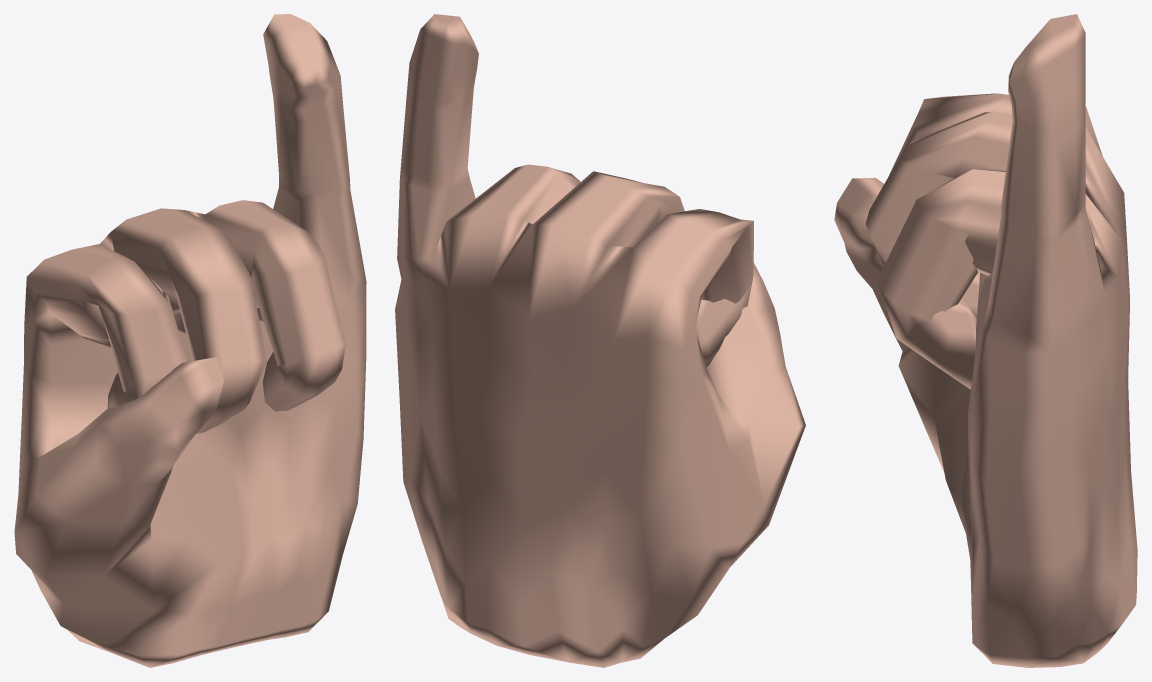
The model's file is MAO_I.obj.
3 views of the same model, side by side, from view 1: azimuth 30°, elevation 25°; view 2: azimuth 150°, elevation 25°; view 3: azimuth 270°, elevation 25° (orthographic). The views are drawn at different scales.
Parts seen in each view (by area): view 1: mao_dir polySurface1; view 2: mao_dir polySurface1; view 3: mao_dir polySurface1.
Boxes of the visible parts, left/top/right/bottom form: mao_dir polySurface1: left=14, top=14, right=366, bottom=667; mao_dir polySurface1: left=395, top=14, right=805, bottom=667; mao_dir polySurface1: left=834, top=14, right=1137, bottom=667.
Size of the model in its own units: 132 by 208 by 87.47.
